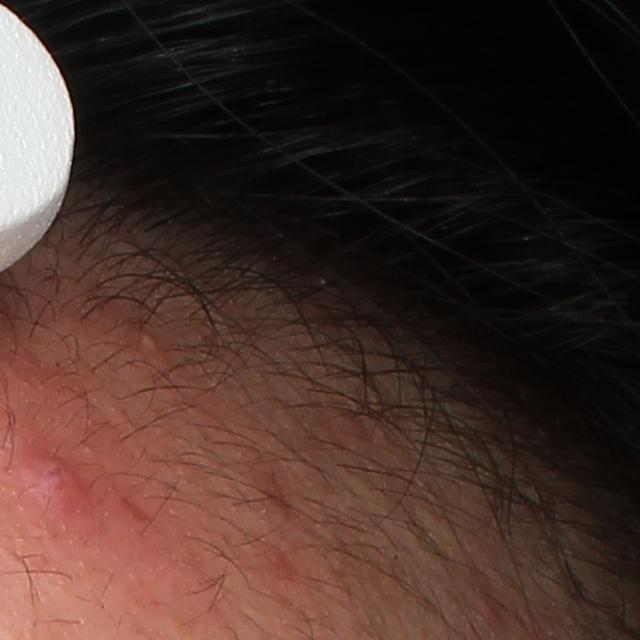papule: (20, 445, 93, 523)
